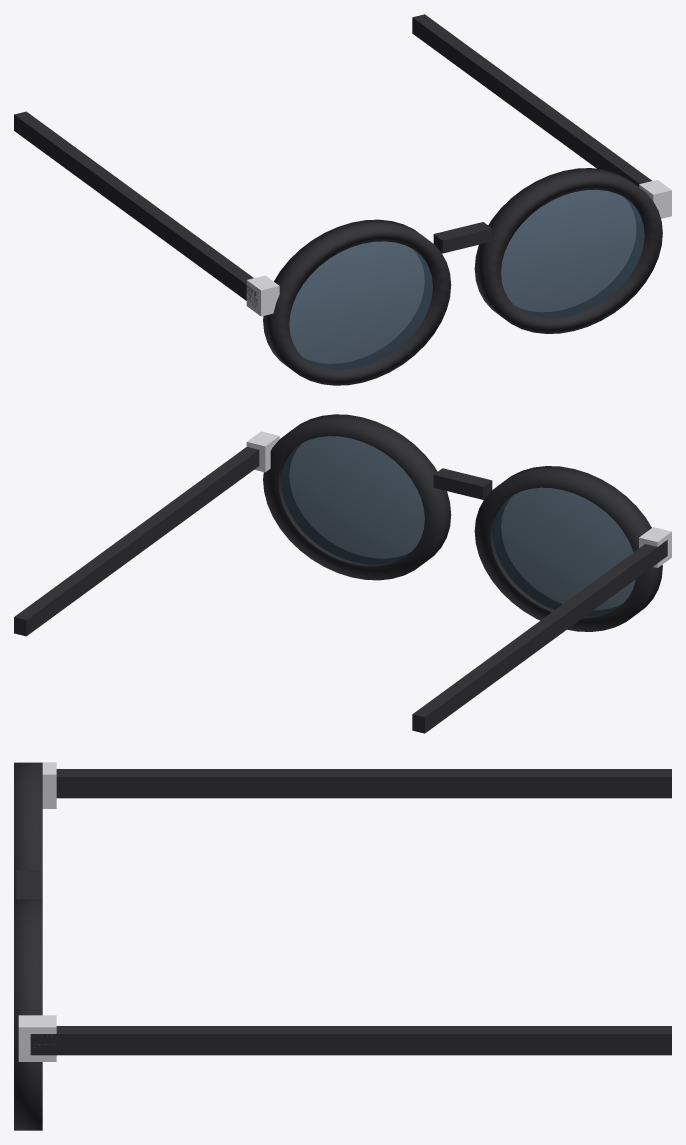
The model's file is sunglasses.glb.
3 views of the same model, one above another, from view 1: azimuth 30°, elevation 25°; view 2: azimuth 150°, elevation 25°; view 3: azimuth 270°, elevation 25° (orthographic). The views are drawn at different scales.
Parts seen in each view (by area): view 1: sunglasses; view 2: sunglasses; view 3: sunglasses.
Part boxes in pixels (left/top/right/bottom): sunglasses: left=14, top=14, right=671, bottom=385; sunglasses: left=14, top=414, right=671, bottom=733; sunglasses: left=14, top=762, right=671, bottom=1130.
Bounding box in the file's own units: 0.132 × 0.0467 × 0.1385.
